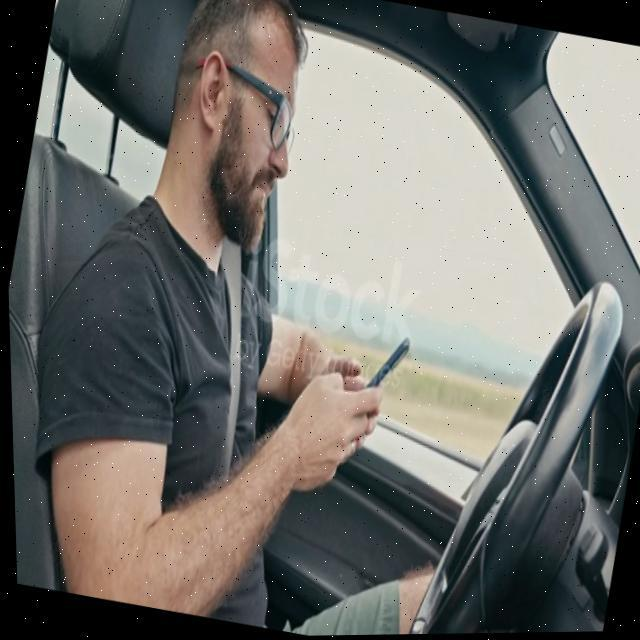PhoneCall: (348, 328, 411, 411)
